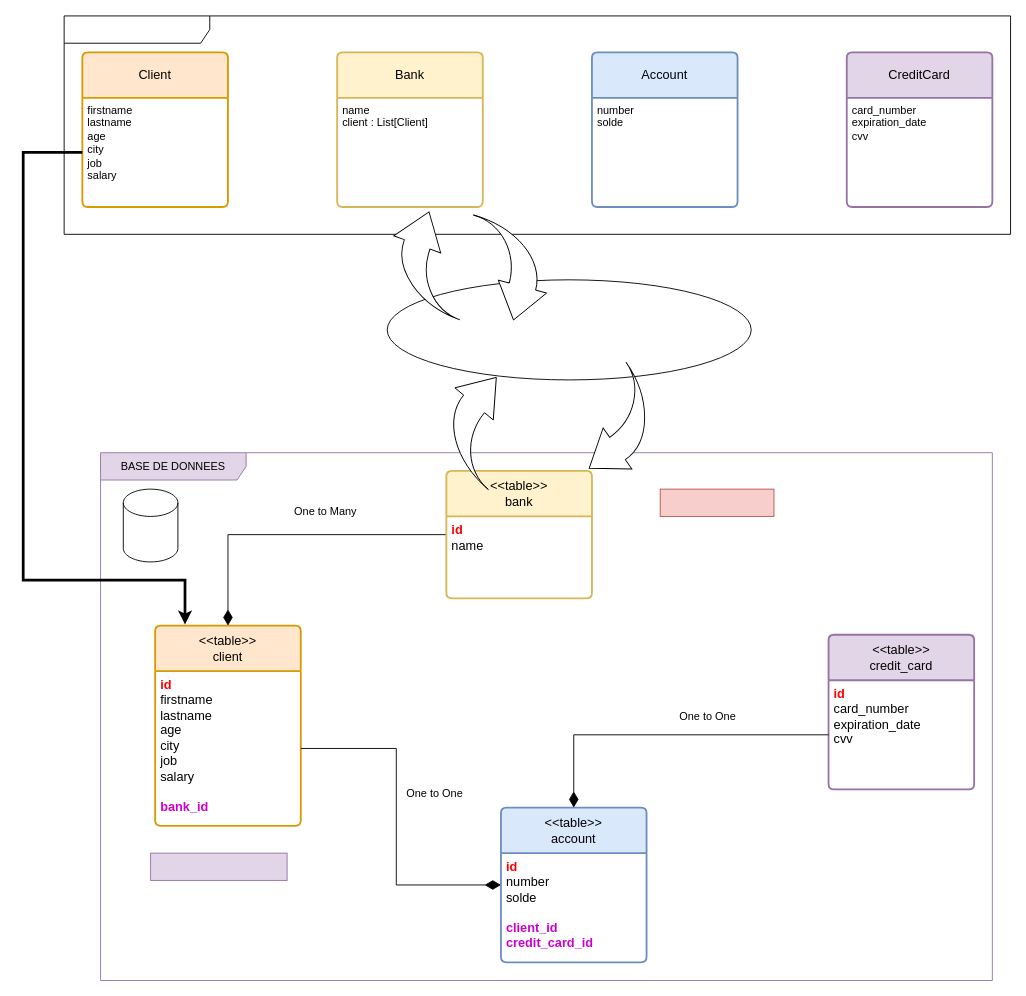
This 1026x996 diagram has some shape labels left out. The shapes that lost their labels are listed below. From the top down, each one's centre as x and y in pixels, then its label:
(x=537, y=124): PYTHON CODE
(x=568, y=329): ORM SQLALCHEMY
(x=716, y=502): id: primary key
(x=218, y=866): cles etrangeres
